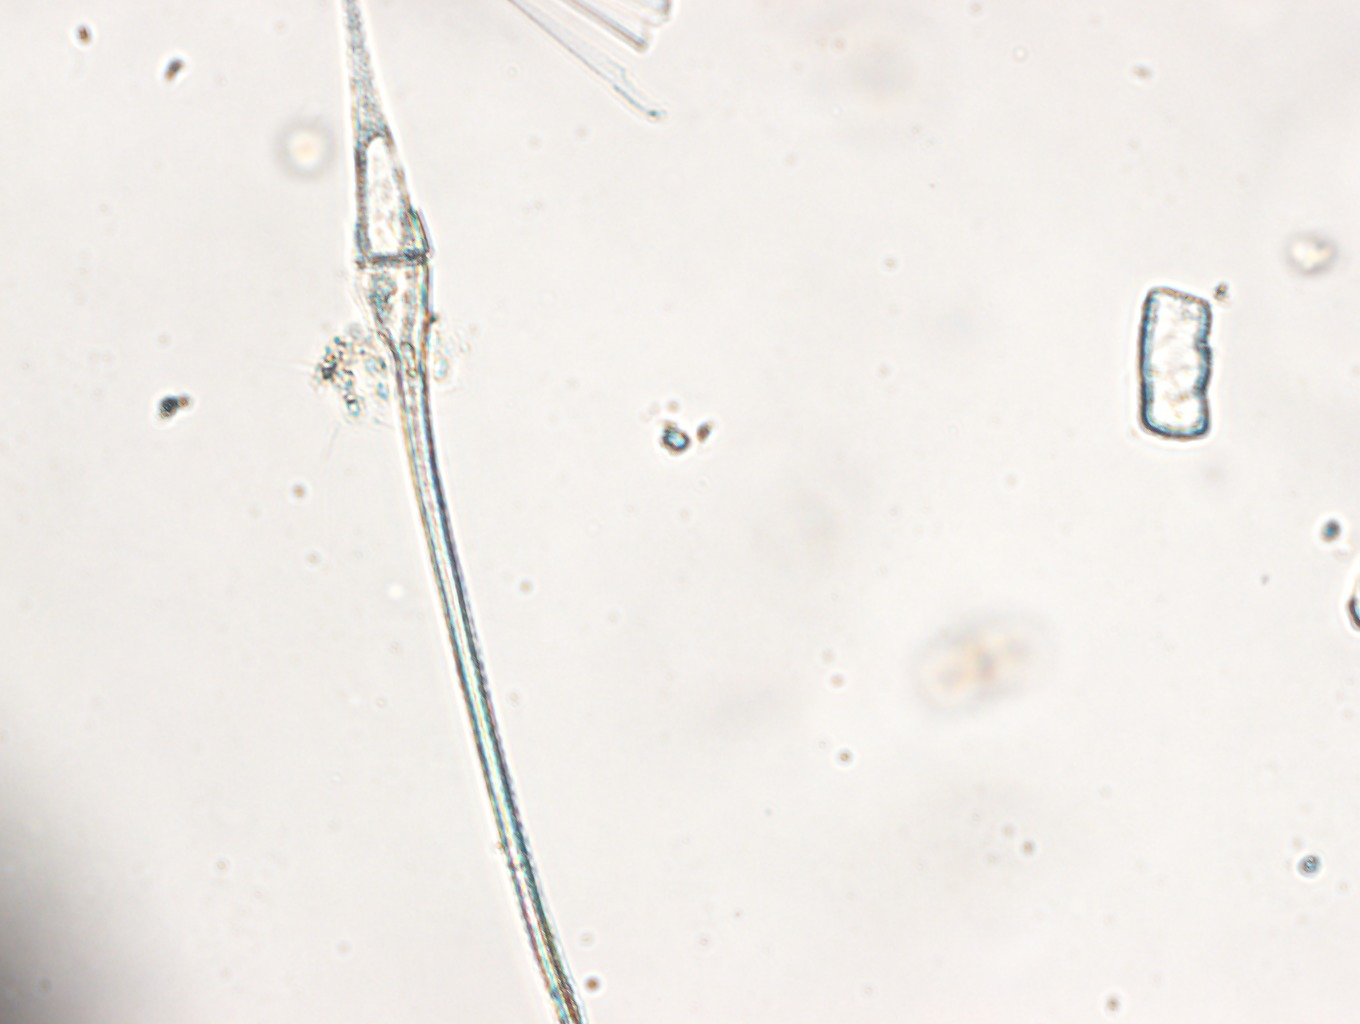ceratium fusus: (332, 6, 589, 1024)
